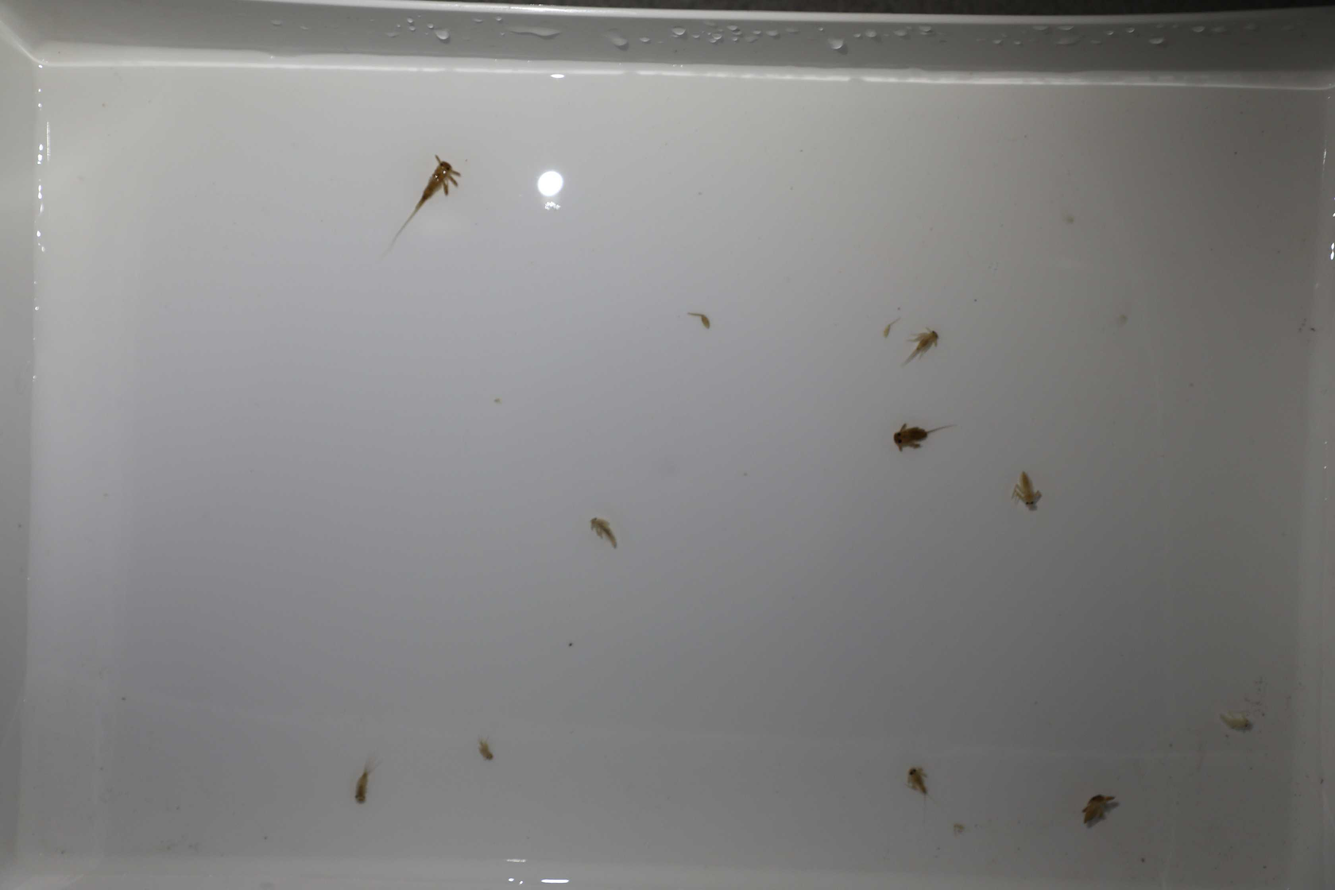Mayfly: (398, 144, 462, 234), (882, 413, 958, 456), (1072, 786, 1126, 832), (581, 509, 627, 560), (347, 750, 385, 807), (897, 324, 943, 370), (1007, 464, 1045, 518), (902, 761, 936, 802), (1217, 705, 1253, 738), (472, 731, 494, 760)
